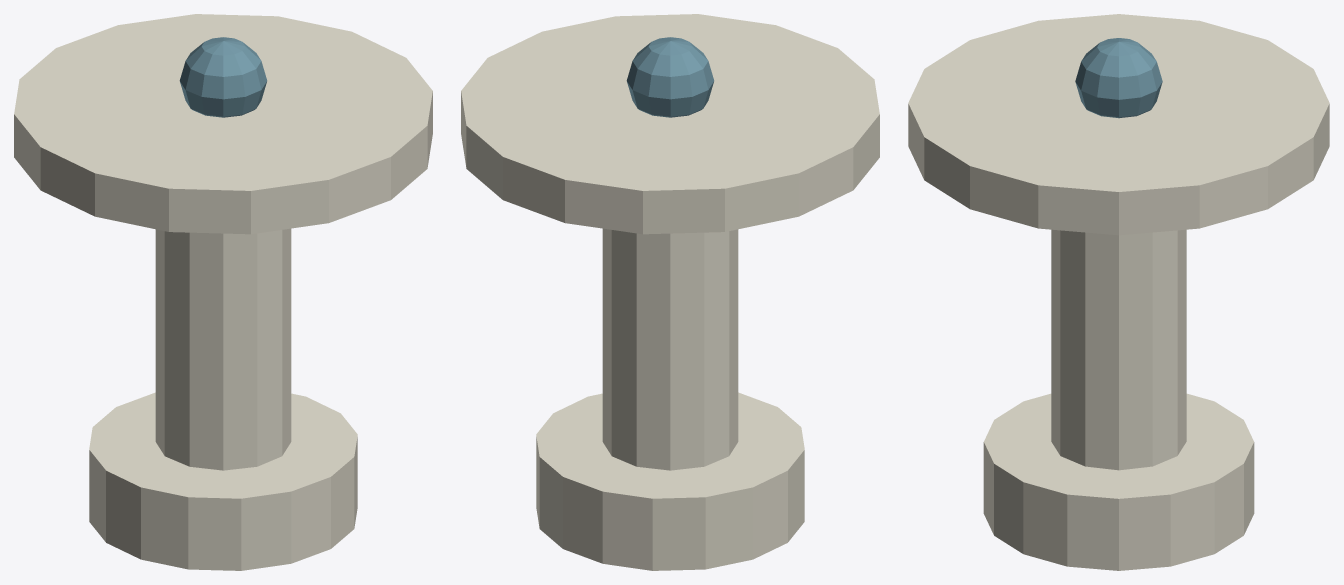
File: park_fountain_column.glb
The picture shows the model from 3 angles, left to right: view 1: azimuth 30°, elevation 25°; view 2: azimuth 150°, elevation 25°; view 3: azimuth 270°, elevation 25°; orthographic projection.
Visible parts, largest first — view 1: park_fountain_column; view 2: park_fountain_column; view 3: park_fountain_column.
Boxes of the visible parts, x1,y1,x2,y2 form: park_fountain_column: (14,14,432,570); park_fountain_column: (461,14,879,570); park_fountain_column: (908,14,1329,570).
Bounding box in the file's own units: 1.06 × 1.31 × 1.06.
